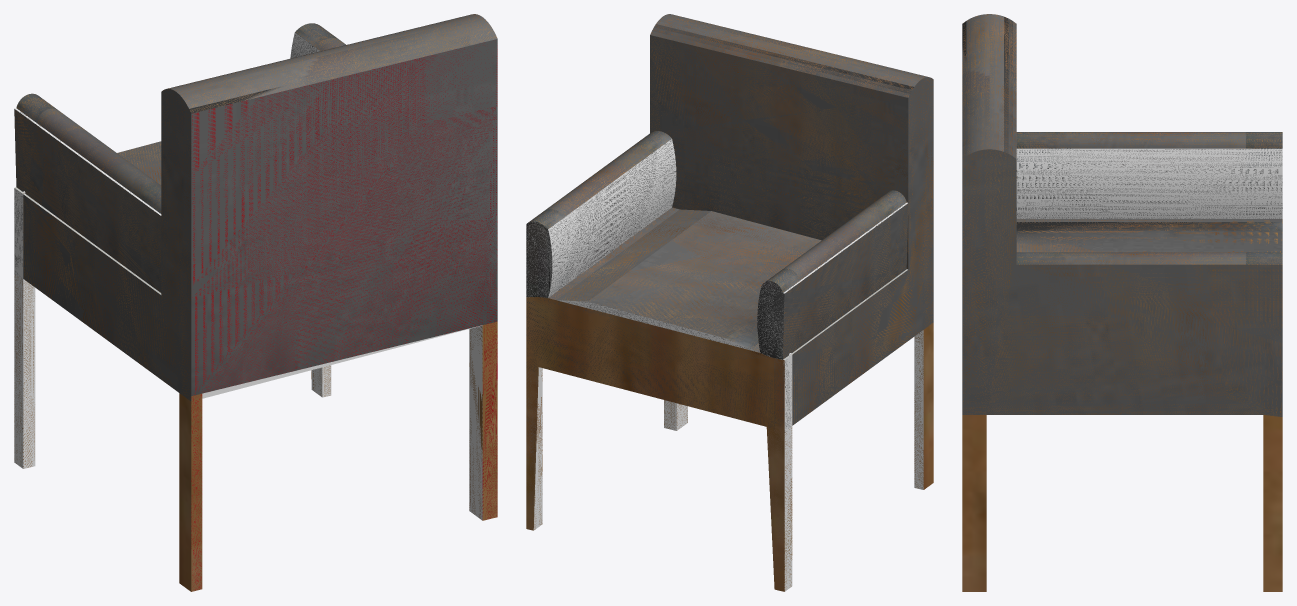
3 views of the same model, side by side, from view 1: azimuth 30°, elevation 25°; view 2: azimuth 150°, elevation 25°; view 3: azimuth 270°, elevation 25° (orthographic). The views are drawn at different scales.
Parts seen in each view (by area): view 1: mesh1_mesh1-geometry; view 2: mesh1_mesh1-geometry; view 3: mesh1_mesh1-geometry.
Part boxes in pixels (<box>): mesh1_mesh1-geometry: <box>14,14,497,591</box>; mesh1_mesh1-geometry: <box>526,14,933,591</box>; mesh1_mesh1-geometry: <box>962,14,1282,591</box>.
Size of the model in its own units: 0.4808 by 0.7333 by 0.4808.
